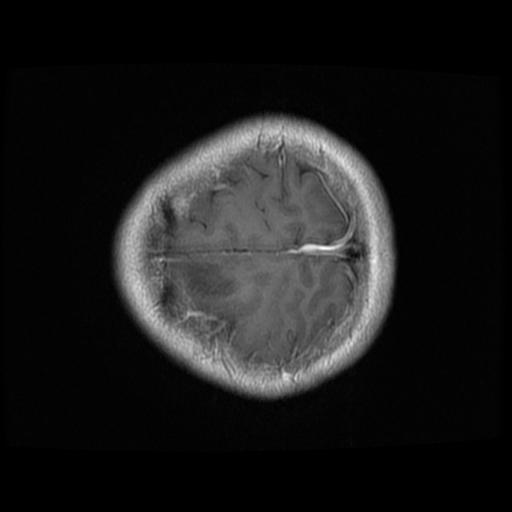glioma: (169, 257, 241, 337)
